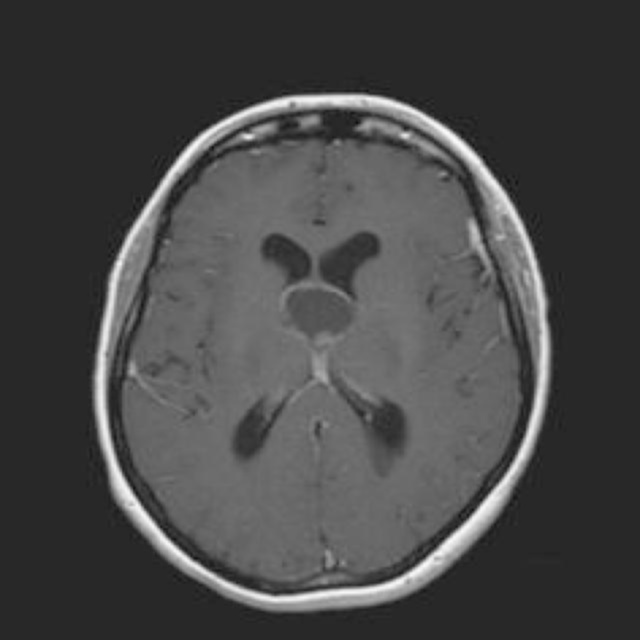glioma tumor: (184, 141, 440, 545)
